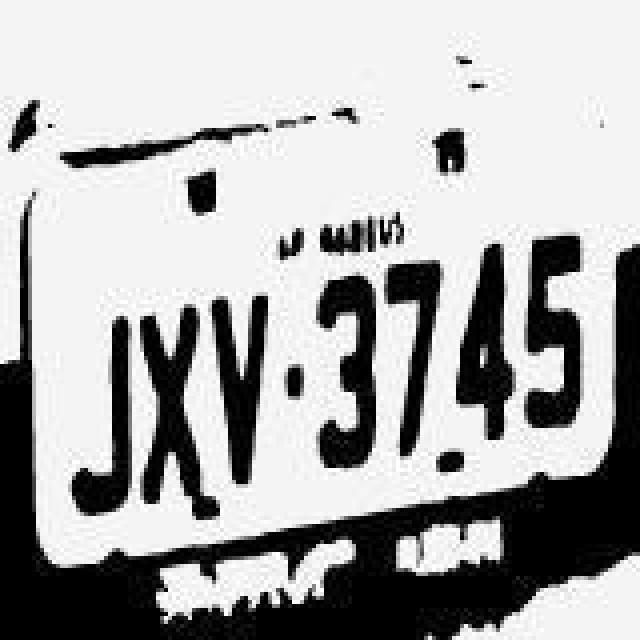3: (308, 270, 380, 490)
4: (454, 224, 522, 448)
5: (518, 202, 594, 454)
7: (380, 250, 444, 470)
J: (70, 280, 138, 520)
V: (208, 276, 272, 508)
X: (136, 278, 208, 506)
